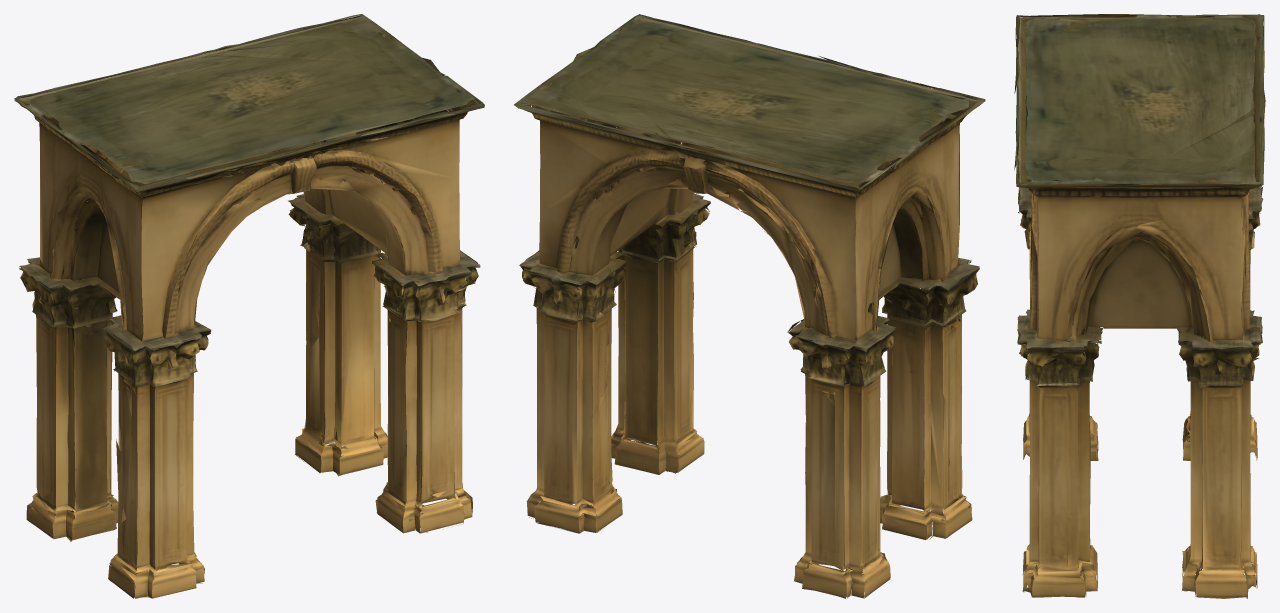
The model's file is roman-garden-bay.glb.
3 renders of one model, left to right at view 1: azimuth 30°, elevation 25°; view 2: azimuth 150°, elevation 25°; view 3: azimuth 270°, elevation 25°, orthographic.
Visible parts, largest first — view 1: roman-garden-bay-1; view 2: roman-garden-bay-1; view 3: roman-garden-bay-1.
Part boxes in pixels (x1,y1,x2,y2): roman-garden-bay-1: (14, 14, 484, 598); roman-garden-bay-1: (514, 14, 985, 598); roman-garden-bay-1: (1014, 14, 1265, 598).
Bounding box in the file's own units: 3.09 × 3.54 × 1.91.
Materials: 1 (1 with a texture image).
